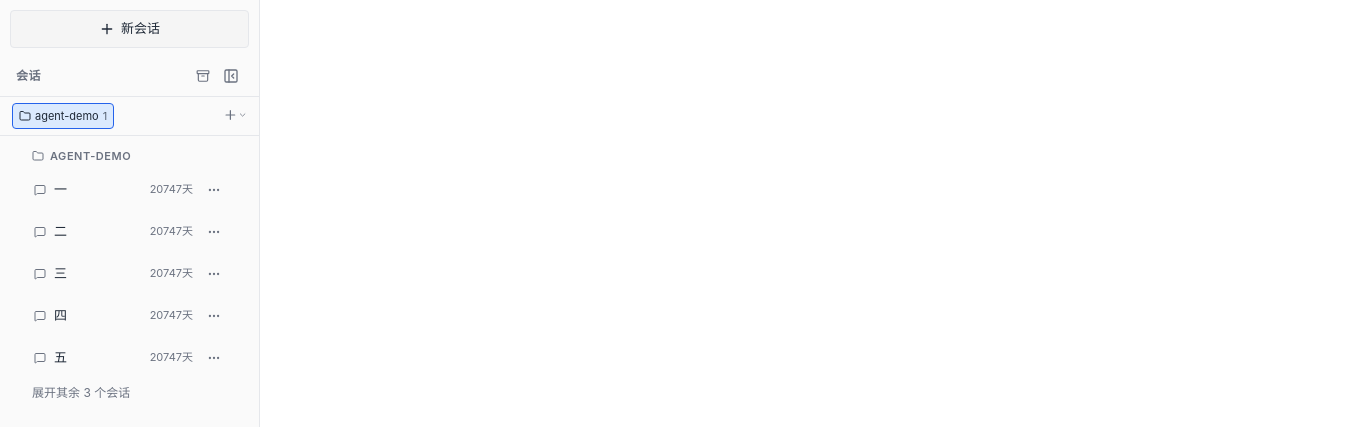
Test: Sidebar 会话管理 › 点击 menu 外部关闭 menu
This screenshot has width=1366, height=444.
Click the button with test id "workspace-add-button": (235, 115) 223,103 -> 247,127
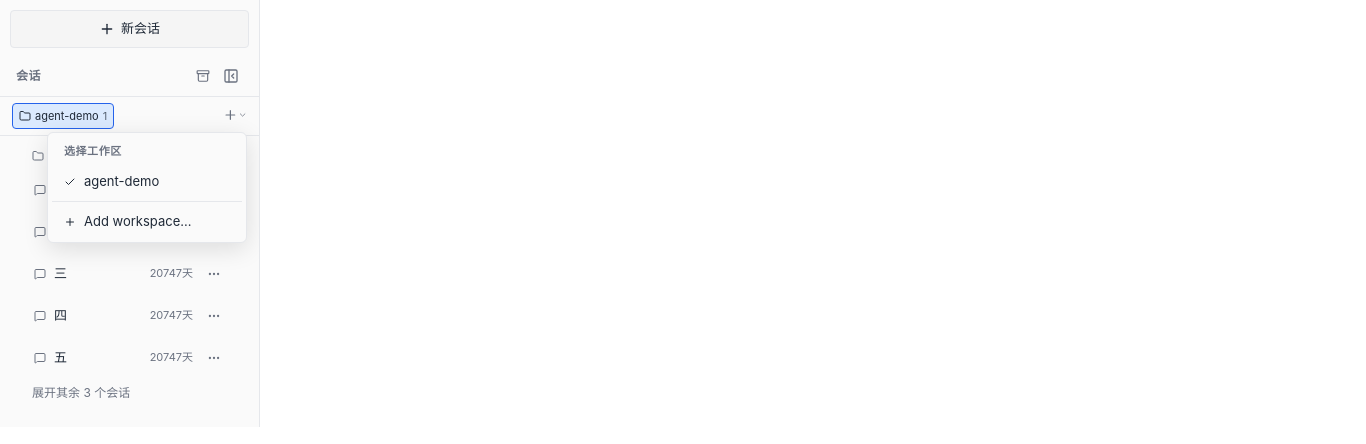
Expected: the menu with test id "workspace-add-menu" is shown, 47,132 -> 247,243
# 点击 document body 任意位置
Press the mouse on the element that starts with "新会话": (683, 213) 0,0 -> 1365,426
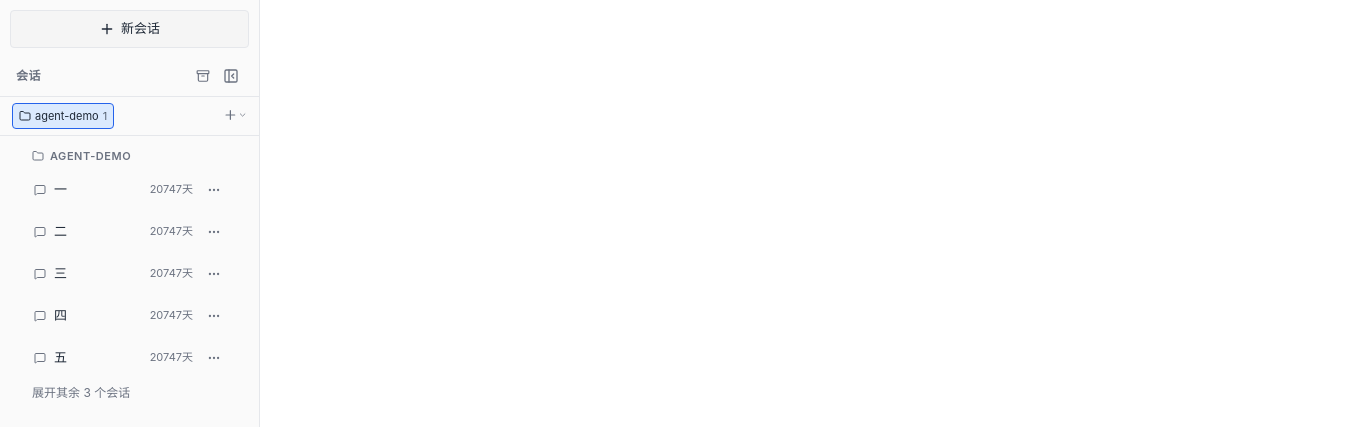
Expected: the menu with test id "workspace-add-menu" is gone
